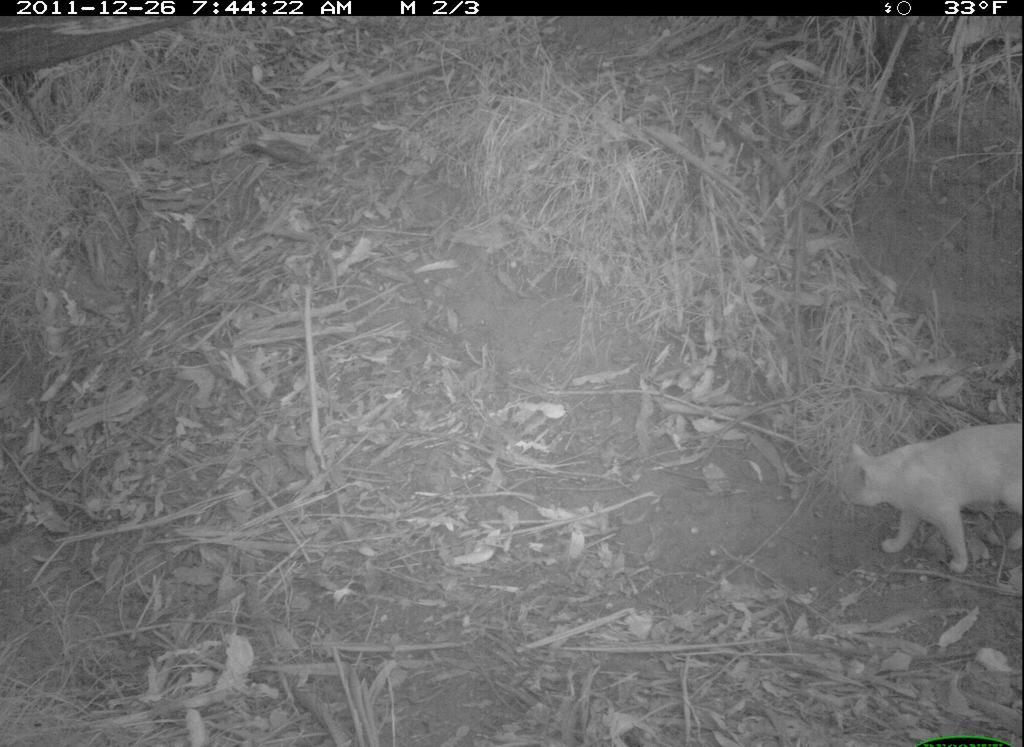cat: (835, 418, 1023, 579)
